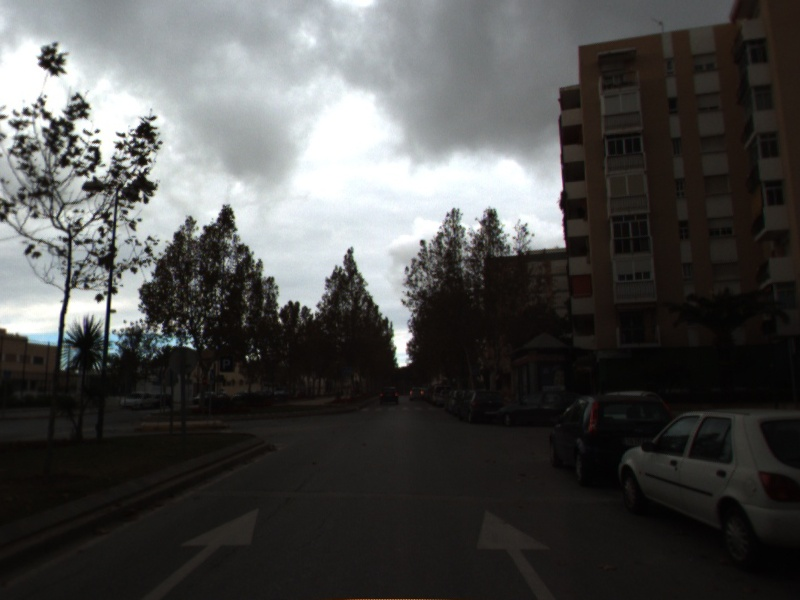STRAIGHT: (142, 504, 264, 600), (471, 506, 559, 600)
